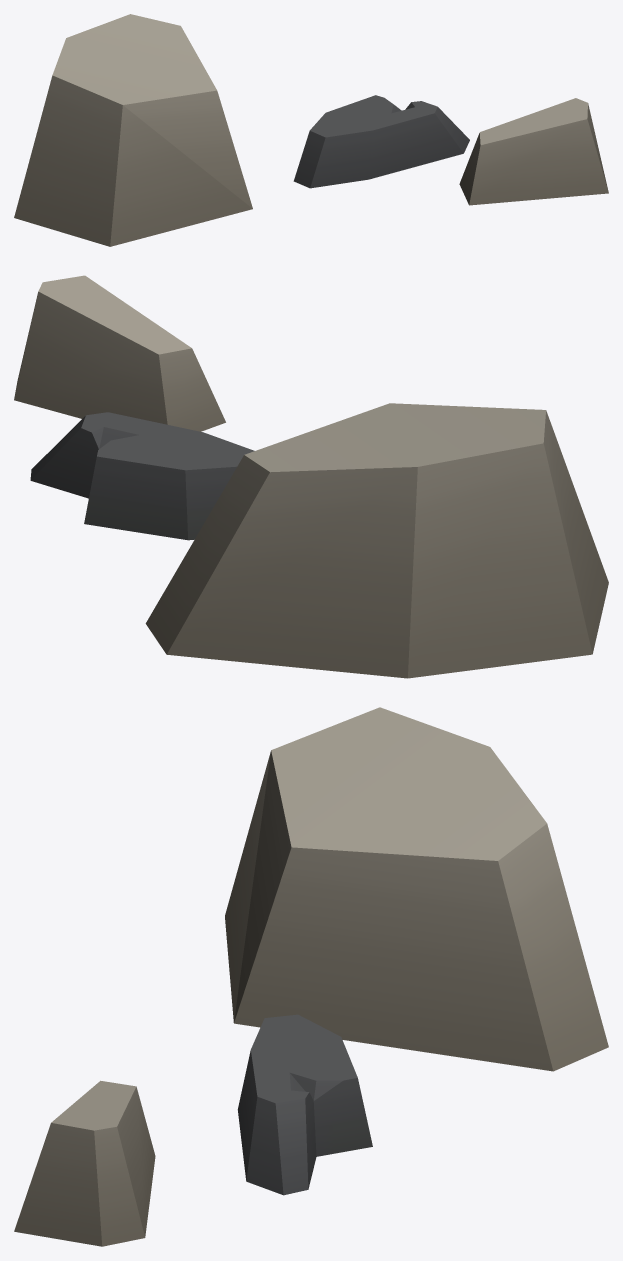
File: Rock_Cluster_2A.fbx
3 views of the same model, one above another, from view 1: azimuth 30°, elevation 25°; view 2: azimuth 150°, elevation 25°; view 3: azimuth 270°, elevation 25° (orthographic). The views are drawn at different scales.
Parts seen in each view (by area): view 1: Rock_Cluster_2A; view 2: Rock_Cluster_2A; view 3: Rock_Cluster_2A.
Part boxes in pixels (x1,y1,x2,y2): Rock_Cluster_2A: [14, 14, 608, 246]; Rock_Cluster_2A: [14, 275, 608, 678]; Rock_Cluster_2A: [14, 707, 608, 1246].
Bounding box in the file's own units: 176 × 46.24 × 122.
